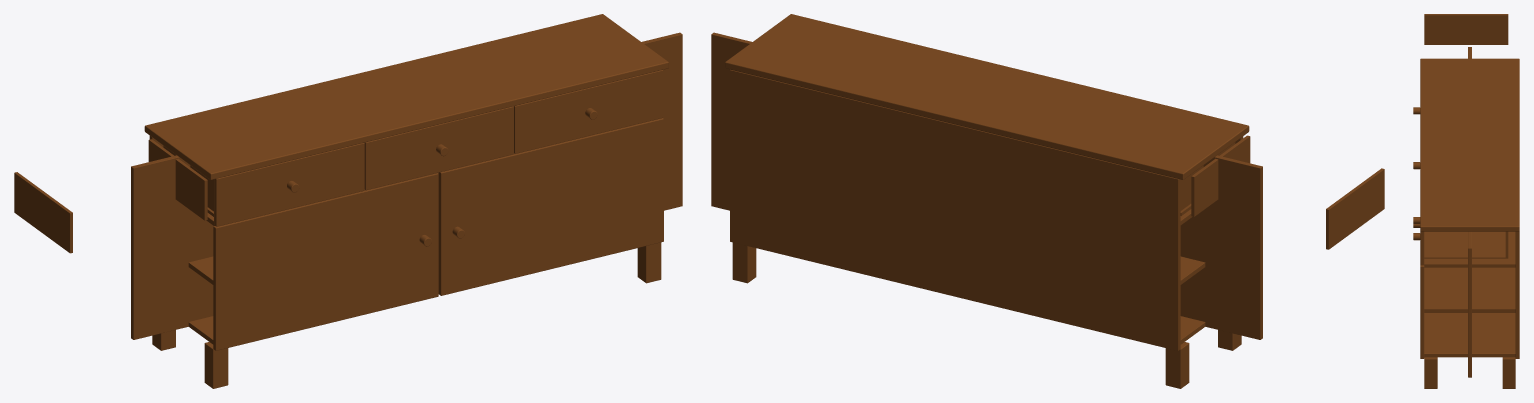
Rendered from Oakley_sideboard.obj.
3 renders of one model, left to right at view 1: azimuth 30°, elevation 25°; view 2: azimuth 150°, elevation 25°; view 3: azimuth 270°, elevation 25°, orthographic. The views are drawn at different scales.
Parts seen in each view (by area): view 1: top, door_1, door_2, carcass.side_1, drawer.front_1, drawer.front_2, drawer.front_3, carcass.side_2, drawer.side.left_1, drawer.side.right_1, leg_1, leg_2; view 2: carcass.back, top, carcass.side_1, carcass.side_2, drawer.side.left_1, drawer.side.right_1, leg_3, leg_4; view 3: top, carcass.bottom, shelf.fixed, drawer.side.left_1, drawer.base_3, carcass.divider, carcass.back, carcass.side_2, door_2, leg_2, leg_4, drawer.front_3.
Boxes of the visible parts, left/top/right/bottom form: top: left=144, top=14, right=668, bottom=179; door_1: left=213, top=173, right=438, bottom=350; door_2: left=438, top=118, right=663, bottom=295; carcass.side_1: left=131, top=155, right=213, bottom=339; drawer.front_1: left=214, top=143, right=364, bottom=226; drawer.front_2: left=364, top=106, right=513, bottom=190; drawer.front_3: left=514, top=70, right=662, bottom=153; carcass.side_2: left=641, top=32, right=682, bottom=210; drawer.side.left_1: left=14, top=172, right=72, bottom=253; drawer.side.right_1: left=148, top=139, right=207, bottom=220; leg_1: left=204, top=342, right=228, bottom=388; leg_2: left=637, top=242, right=661, bottom=283; carcass.back: left=730, top=69, right=1180, bottom=350; top: left=725, top=14, right=1249, bottom=179; carcass.side_1: left=1180, top=155, right=1262, bottom=339; carcass.side_2: left=711, top=32, right=752, bottom=210; drawer.side.left_1: left=1326, top=168, right=1384, bottom=249; drawer.side.right_1: left=1191, top=135, right=1250, bottom=216; leg_3: left=1165, top=342, right=1189, bottom=388; leg_4: left=732, top=242, right=756, bottom=283; top: left=1420, top=58, right=1519, bottom=231; carcass.bottom: left=1424, top=312, right=1515, bottom=357; shelf.fixed: left=1424, top=267, right=1515, bottom=312; drawer.side.left_1: left=1424, top=14, right=1508, bottom=44; drawer.base_3: left=1424, top=231, right=1508, bottom=258; carcass.divider: left=1424, top=231, right=1515, bottom=267; carcass.back: left=1515, top=231, right=1519, bottom=358; carcass.side_2: left=1468, top=231, right=1471, bottom=377; door_2: left=1420, top=265, right=1424, bottom=358; leg_2: left=1424, top=357, right=1437, bottom=388; leg_4: left=1502, top=357, right=1515, bottom=388; drawer.front_3: left=1420, top=231, right=1424, bottom=265.
Bounding box in the file's own units: 2.52 × 0.82 × 0.482.
